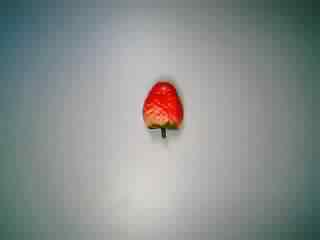strawberry: (131, 76, 188, 145)
